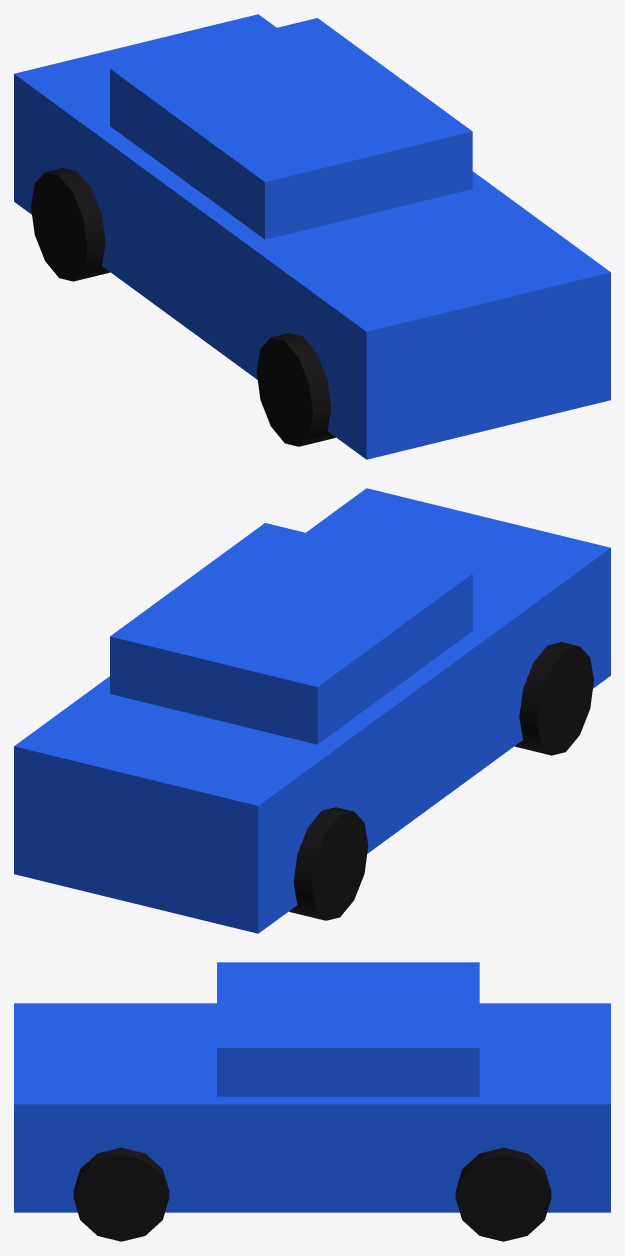
The model's file is auto_prueba.glb.
The picture shows the model from 3 angles, top to bottom: view 1: azimuth 30°, elevation 25°; view 2: azimuth 150°, elevation 25°; view 3: azimuth 270°, elevation 25°; orthographic projection. The views are drawn at different scales.
Visible parts, largest first — view 1: auto; view 2: auto; view 3: auto.
Part boxes in pixels (box(x1,y1,x2,y2)): auto: box(14, 14, 610, 459); auto: box(14, 488, 610, 933); auto: box(14, 962, 610, 1241).
Size of the model in its own units: 2.3 by 1.65 by 5.
